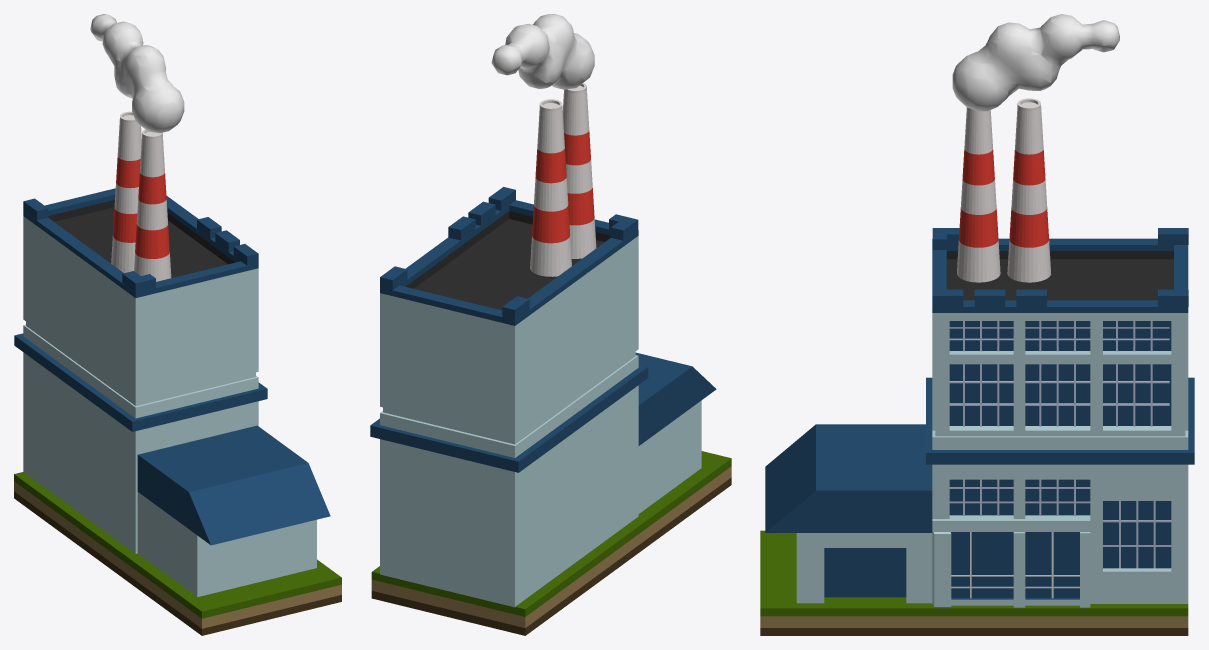
File: factory.fbx
3 views of the same model, side by side, from view 1: azimuth 30°, elevation 25°; view 2: azimuth 150°, elevation 25°; view 3: azimuth 270°, elevation 25° (orthographic). The views are drawn at different scales.
Visible parts, largest first — view 1: Plane.004, Plane.012, factory ground, Plane.008, Mball.005, Circle.005, Circle.006; view 2: Plane.004, factory ground, Circle.006, Mball.005, Circle.005, Plane.008, Plane.012; view 3: Plane.004, Plane.012, factory ground, Plane.008, Mball.005, Circle.006, Circle.005, Plane.005, Plane.007, Plane.006, Plane.009.
Part boxes in pixels (x1,y1,x2,y2): Plane.004: (14, 188, 267, 553); Plane.012: (137, 425, 330, 545); factory ground: (14, 472, 341, 635); Plane.008: (137, 492, 316, 596); Mball.005: (90, 14, 184, 133); Circle.005: (134, 129, 171, 281); Circle.006: (111, 111, 141, 272); Plane.004: (370, 187, 648, 607); factory ground: (371, 451, 731, 635); Circle.006: (530, 99, 571, 276); Mball.005: (491, 14, 594, 89); Circle.005: (562, 83, 596, 258); Plane.008: (638, 400, 701, 513); Plane.012: (635, 352, 716, 445); Plane.004: (926, 228, 1194, 607); Plane.012: (765, 424, 932, 532); factory ground: (760, 530, 1188, 635); Plane.008: (796, 533, 932, 603); Mball.005: (952, 14, 1119, 111); Circle.006: (1007, 98, 1050, 282); Circle.005: (957, 107, 1000, 282); Plane.005: (949, 364, 1169, 426); Plane.007: (949, 321, 1169, 351); Plane.006: (949, 479, 1090, 515); Plane.009: (1103, 501, 1171, 568).
Size of the model in its own units: 196 by 671 by 462.
